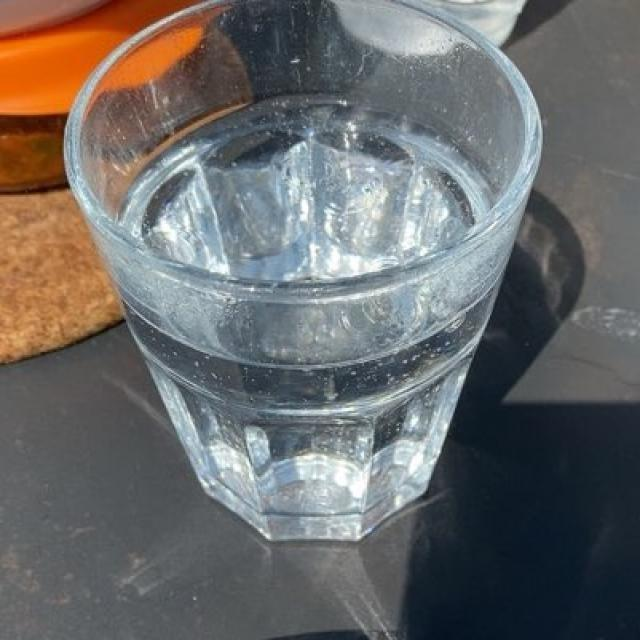water: (92, 103, 491, 527)
